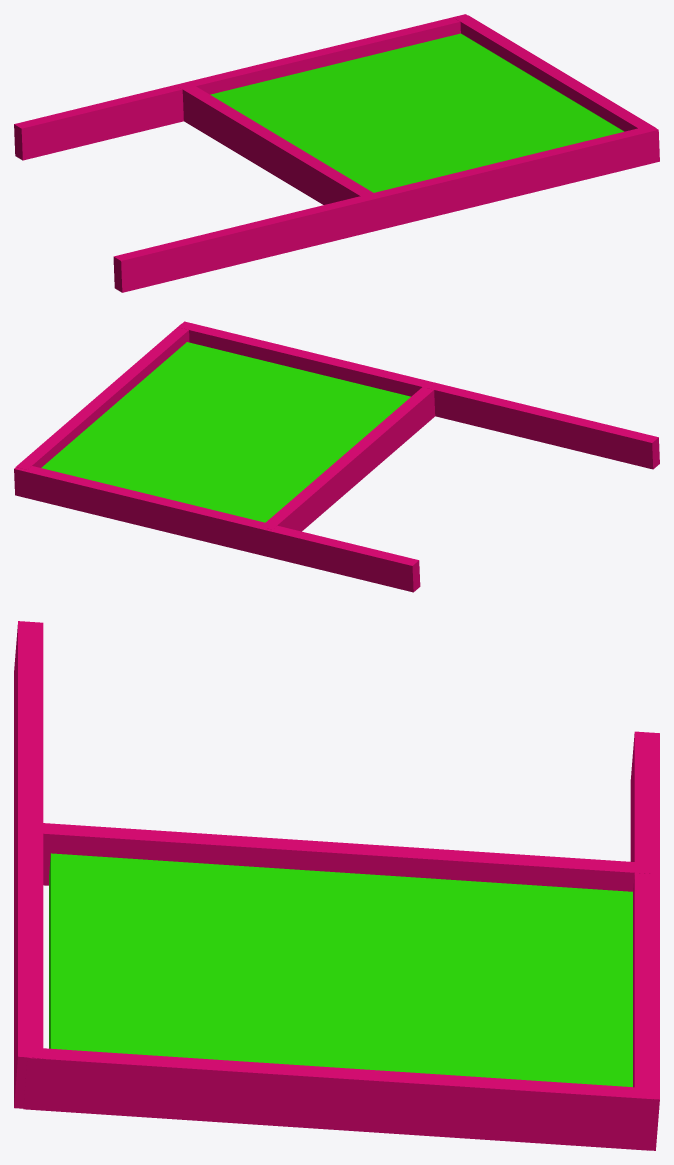
File: House_Wood_Debris_10.fbx
The picture shows the model from 3 angles, top to bottom: view 1: azimuth 30°, elevation 25°; view 2: azimuth 150°, elevation 25°; view 3: azimuth 270°, elevation 25°; orthographic projection. The views are drawn at different scales.
Visible parts, largest first — view 1: House_Wood_Debris_10; view 2: House_Wood_Debris_10; view 3: House_Wood_Debris_10.
Boxes of the visible parts, bbox=[...] form: House_Wood_Debris_10: bbox=[14, 14, 659, 292]; House_Wood_Debris_10: bbox=[14, 321, 659, 592]; House_Wood_Debris_10: bbox=[14, 621, 659, 1150].
Bounding box in the file's own units: 171 × 17.25 × 107.
